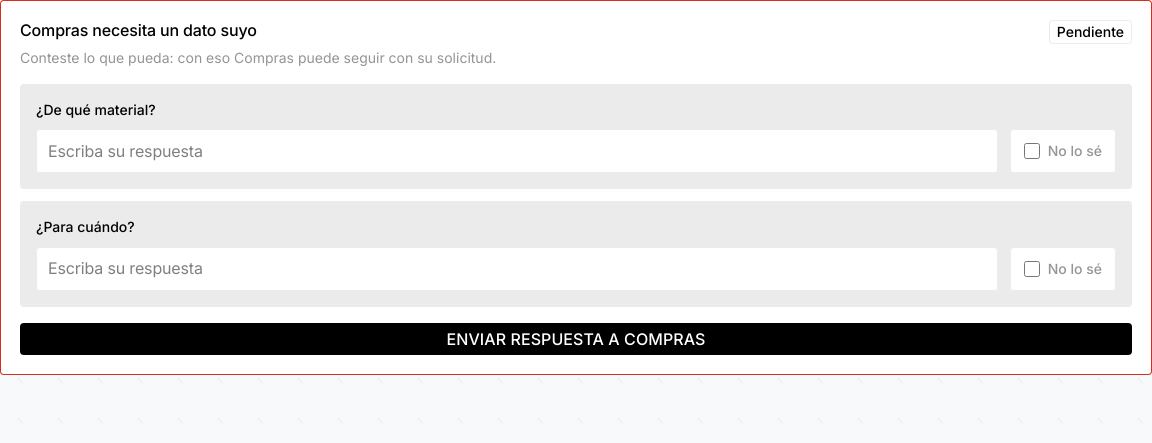
Test case: ResponderPreguntas › un error del servidor muestra el mensaje que devolvió, no uno inventado
Click the button "Enviar respuesta a Compras": [576, 339] box x1=20 y1=323 x2=1132 y2=355
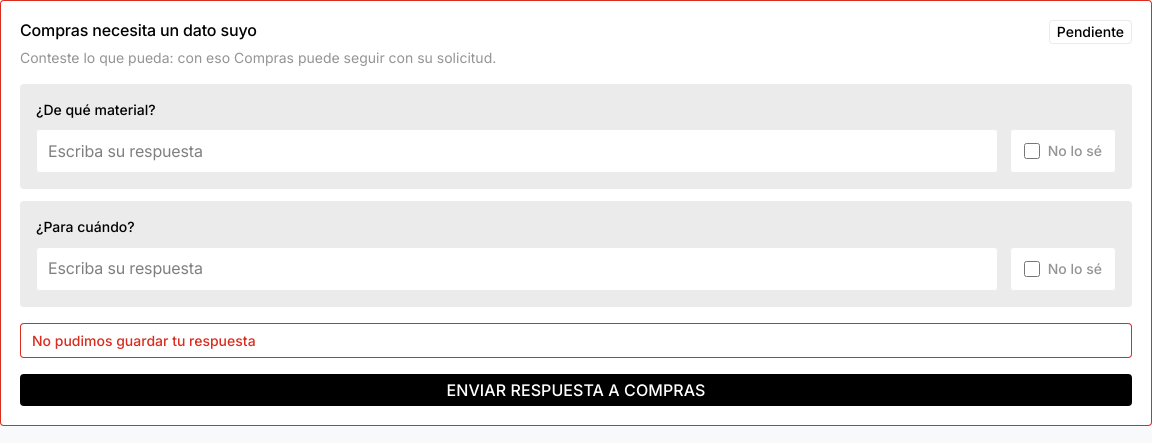
Now the message shows "No pudimos guardar", box x1=32 y1=332 x2=256 y2=349
